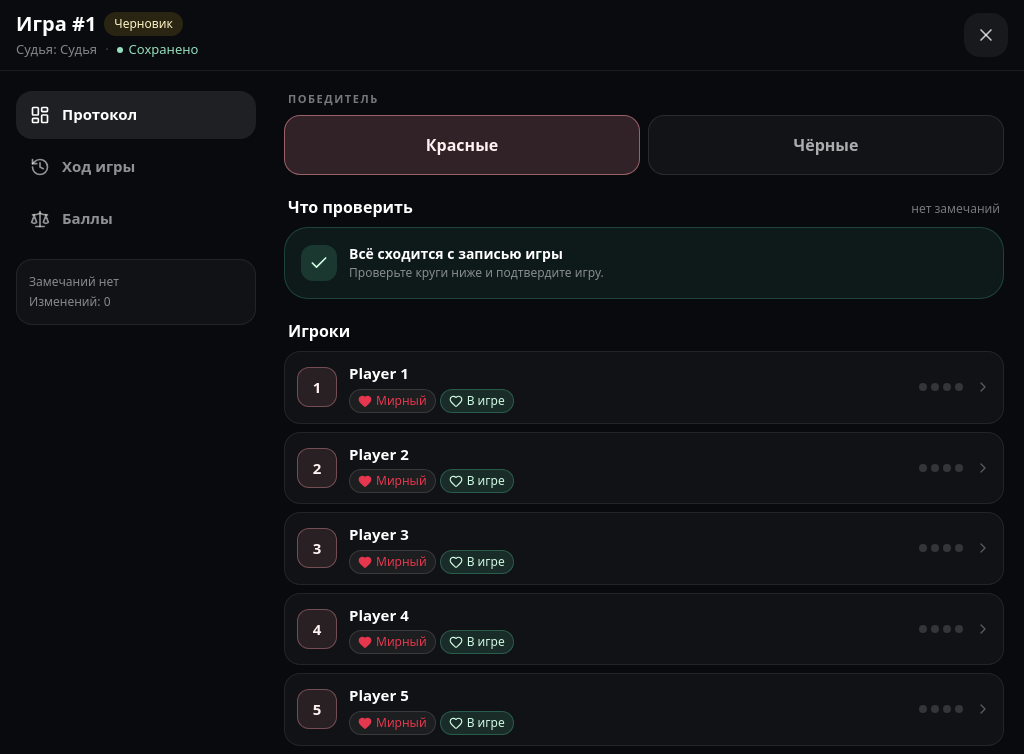
it: tournament protocol autosave › unclassified old technical fouls hold the save back and say why
The width and height of the screenshot is (1024, 754).
Check: the heading "Игра #1" is shown, box left=16, top=10, right=96, bottom=38
Step 1. Click the button "Баллы" → (136,218), box left=16, top=194, right=256, bottom=242
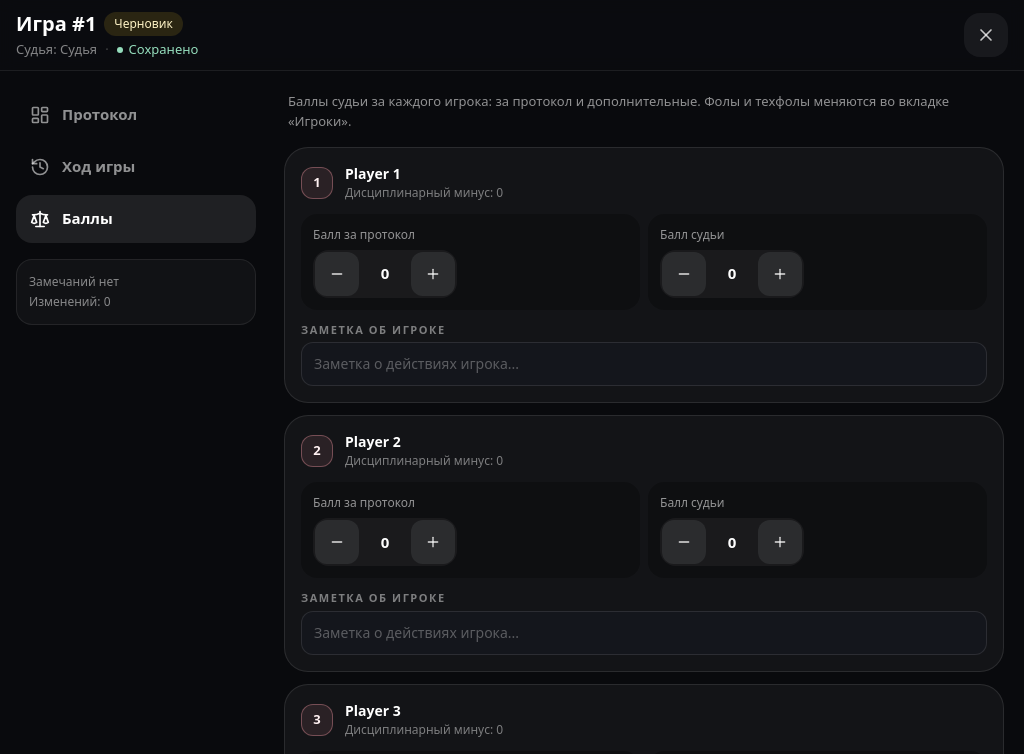
Step 2. Click the 1st button named "Увеличить балл судьи" → (780,274), box left=758, top=252, right=802, bottom=296
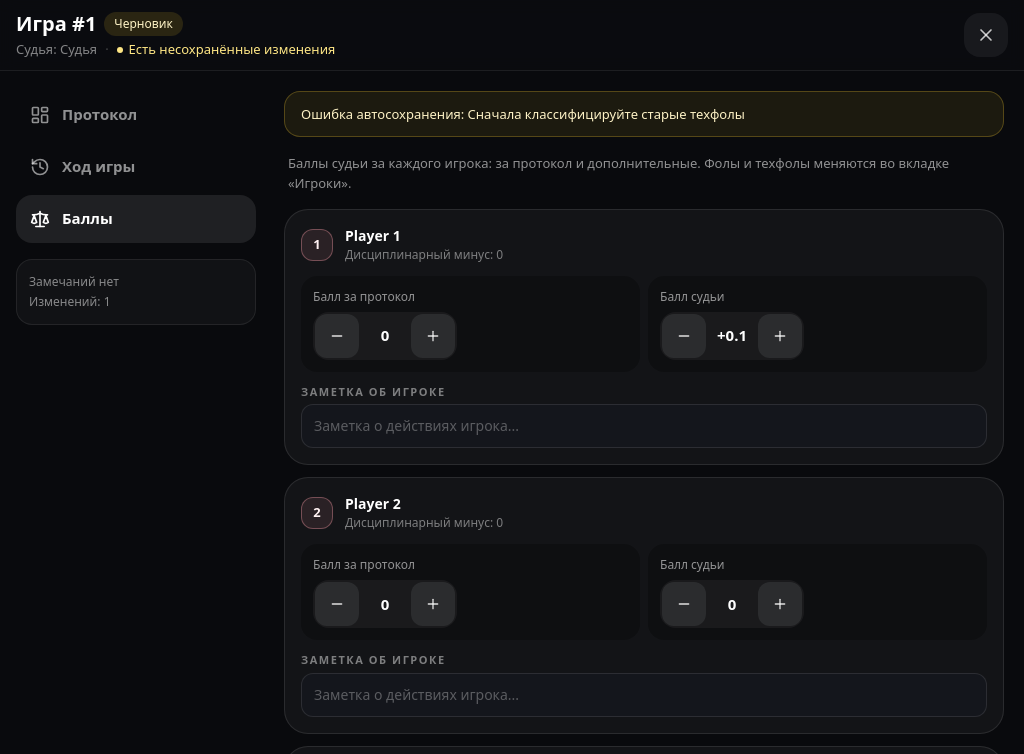
Check: the text "Ошибка автосохранения: Сначала классифицируйте старые техфолы" is shown, box left=284, top=90, right=1004, bottom=136
